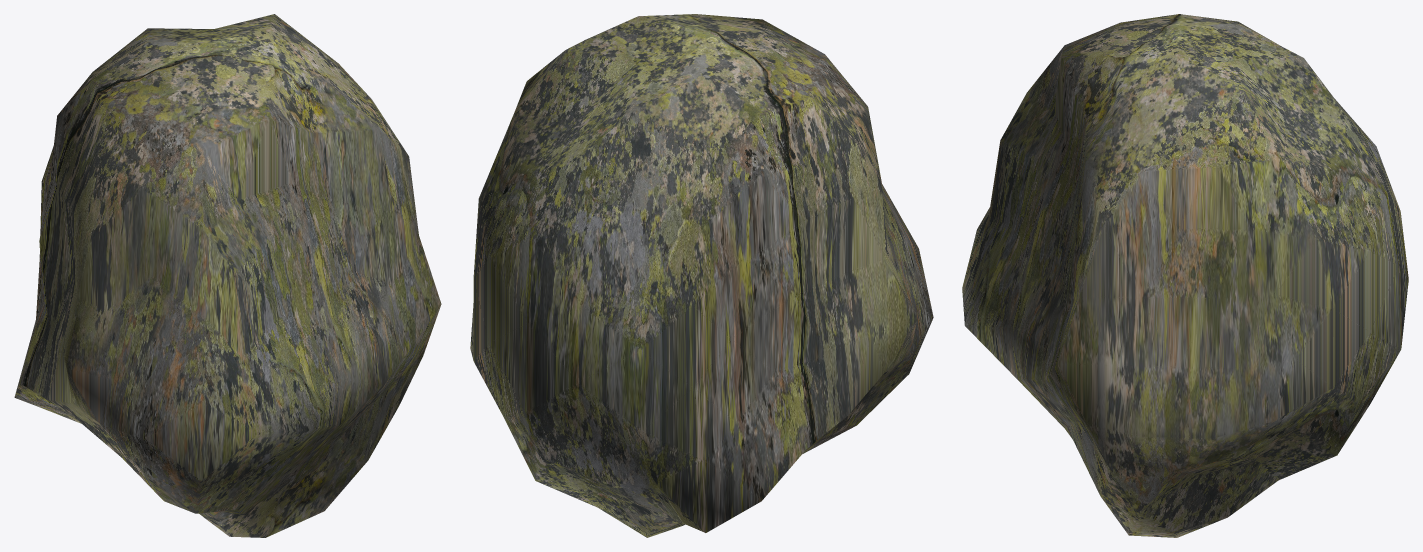
The model's file is boulder_c_lod1.gltf.
The picture shows the model from 3 angles, left to right: view 1: azimuth 30°, elevation 25°; view 2: azimuth 150°, elevation 25°; view 3: azimuth 270°, elevation 25°; orthographic projection. The views are drawn at different scales.
Visible parts, largest first — view 1: boulder_c_LOD1; view 2: boulder_c_LOD1; view 3: boulder_c_LOD1.
Part boxes in pixels (x1=…): boulder_c_LOD1: x1=14, y1=14, x2=441, y2=537; boulder_c_LOD1: x1=470, y1=14, x2=933, y2=537; boulder_c_LOD1: x1=962, y1=14, x2=1408, y2=537.
Size of the model in its own units: 1.77 by 2.34 by 1.95.
1 material, 1 textured.
